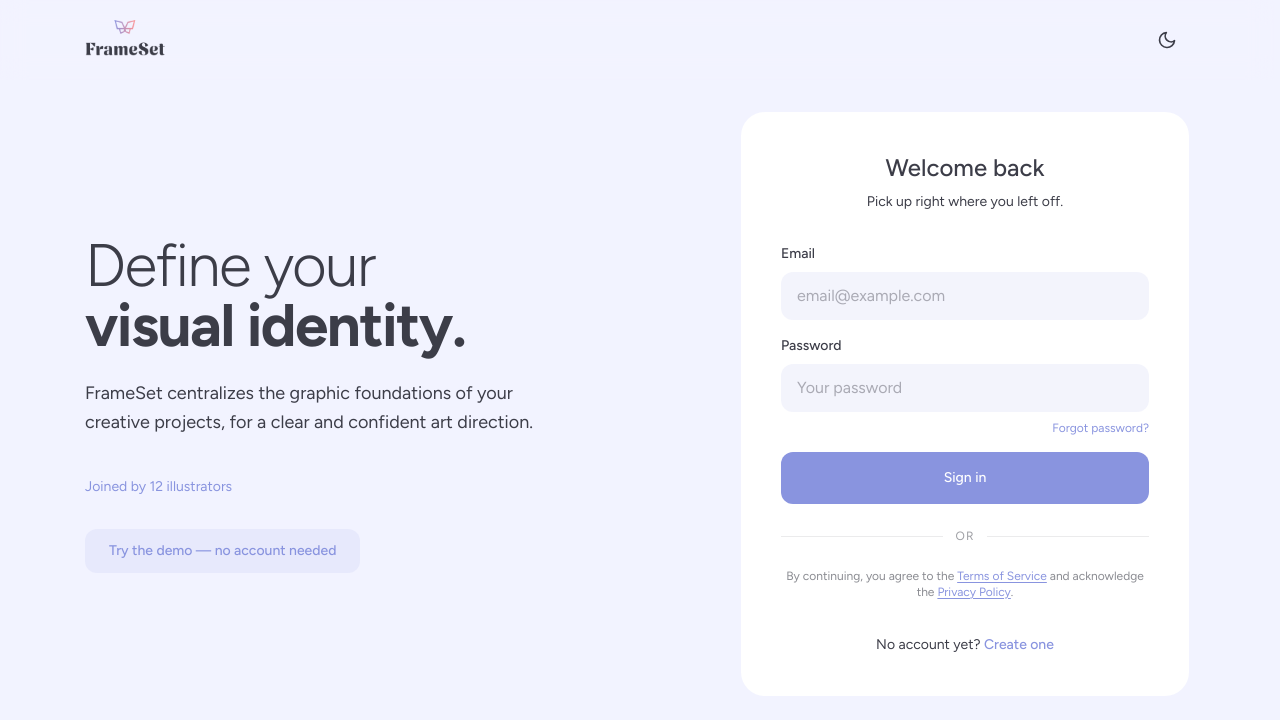
Test: Login › shows the error message when the demo login fails
Click the button "Try the demo — no account needed": (223, 551) top-left (85, 529), bottom-right (360, 573)
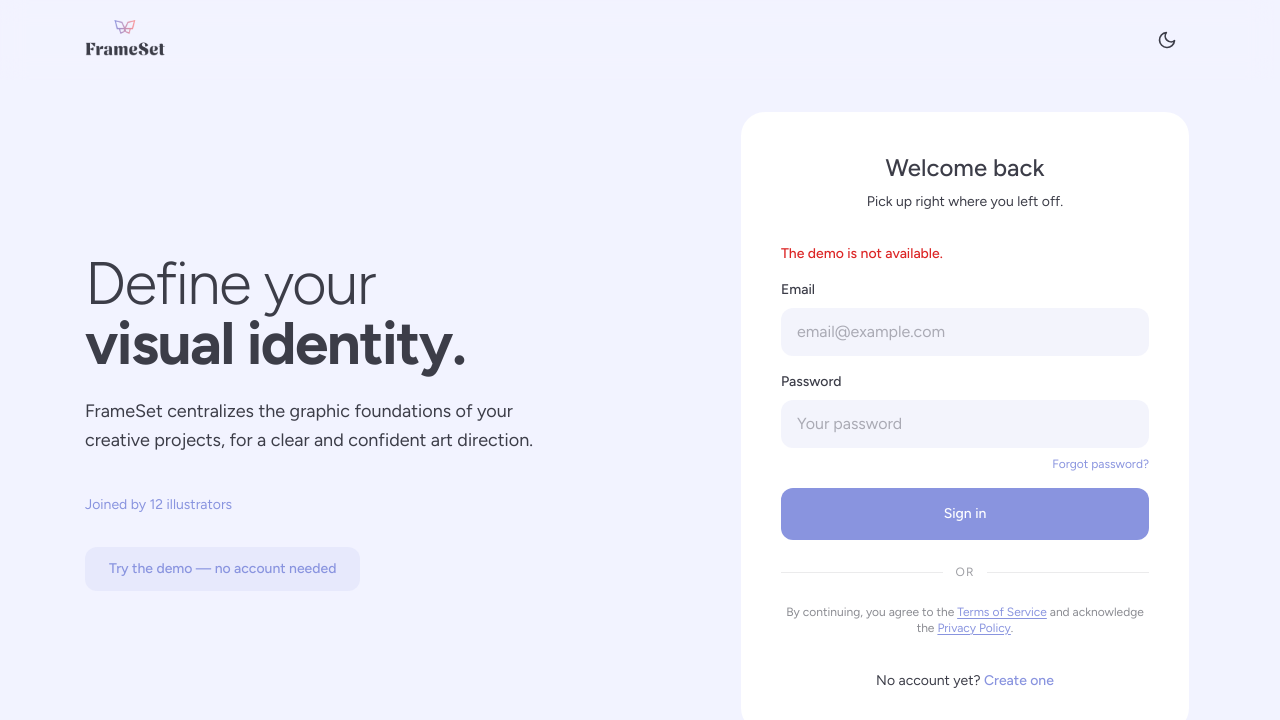
Check: the text "The demo is not available." is shown, box top-left (781, 245), bottom-right (943, 262)
